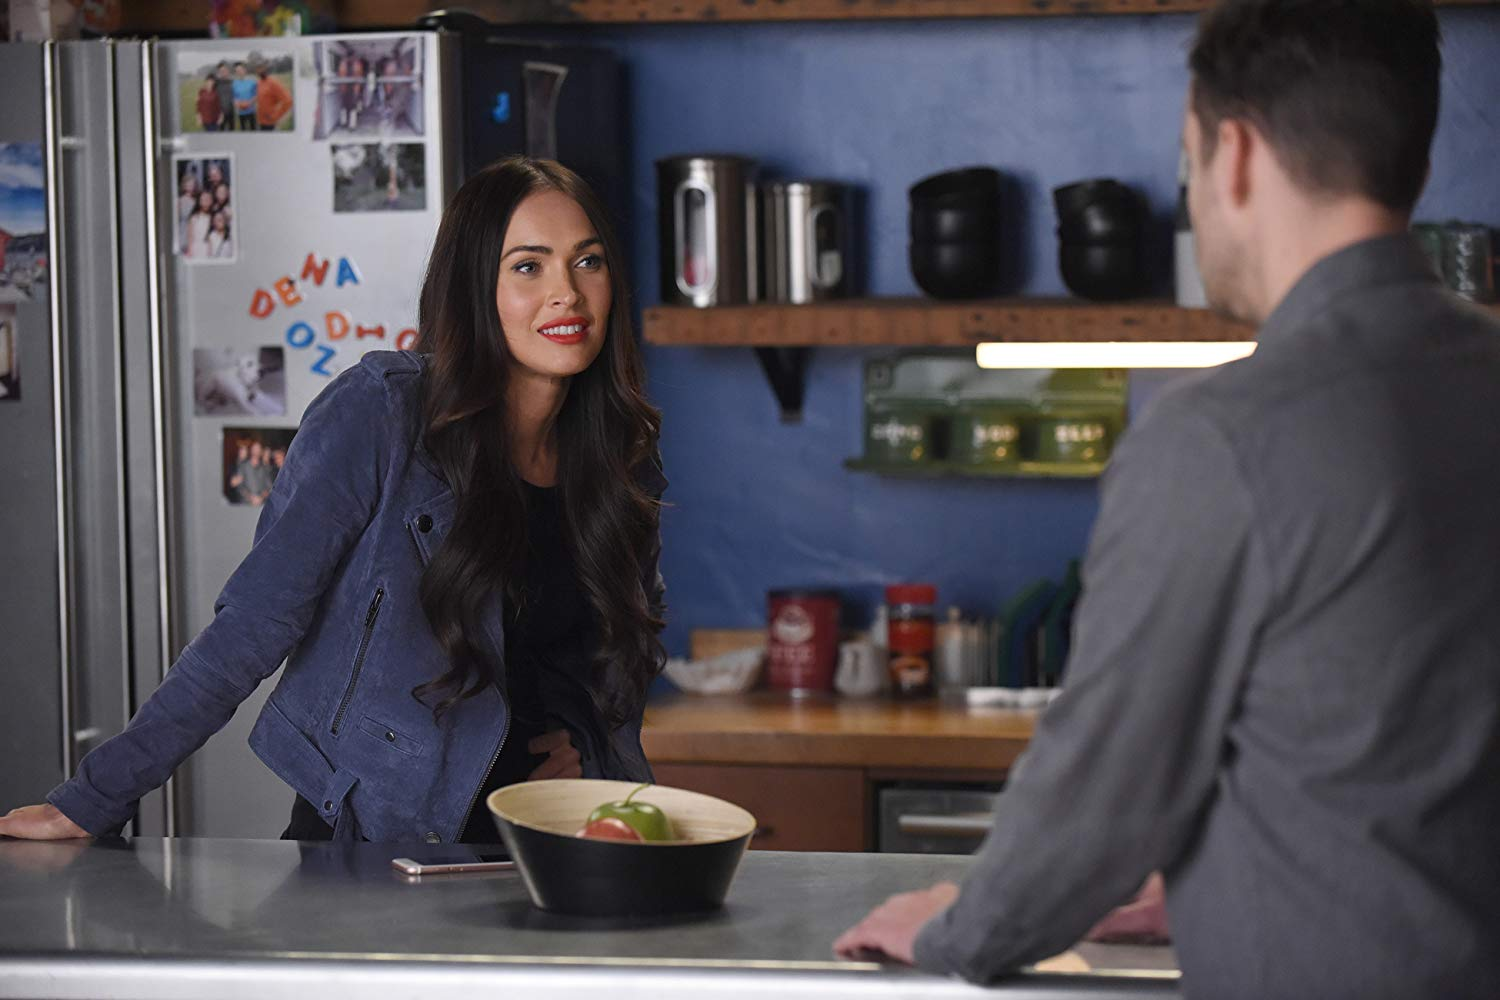person: (945, 6, 1495, 1000), (197, 146, 708, 847)
